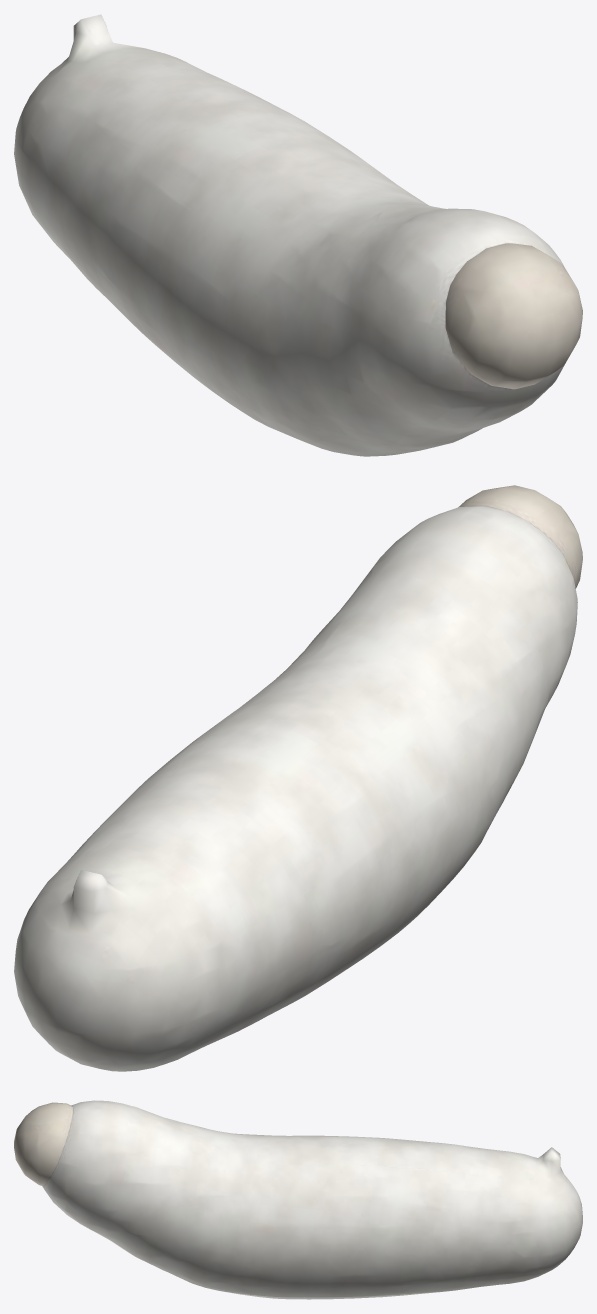
File: animal_silkworm.glb
The picture shows the model from 3 angles, top to bottom: view 1: azimuth 30°, elevation 25°; view 2: azimuth 150°, elevation 25°; view 3: azimuth 270°, elevation 25°; orthographic projection. The views are drawn at different scales.
Visible parts, largest first — view 1: animal_silkworm, head; view 2: animal_silkworm, head; view 3: animal_silkworm, head.
Part boxes in pixels (bbox=[...]): animal_silkworm: bbox=[14, 14, 565, 456]; head: bbox=[445, 243, 582, 389]; animal_silkworm: bbox=[14, 506, 577, 1071]; head: bbox=[458, 485, 582, 588]; animal_silkworm: bbox=[42, 1100, 582, 1299]; head: bbox=[14, 1102, 72, 1186].
Size of the model in its own units: 0.0591 by 0.0738 by 0.2053.
1 material, 1 textured.
